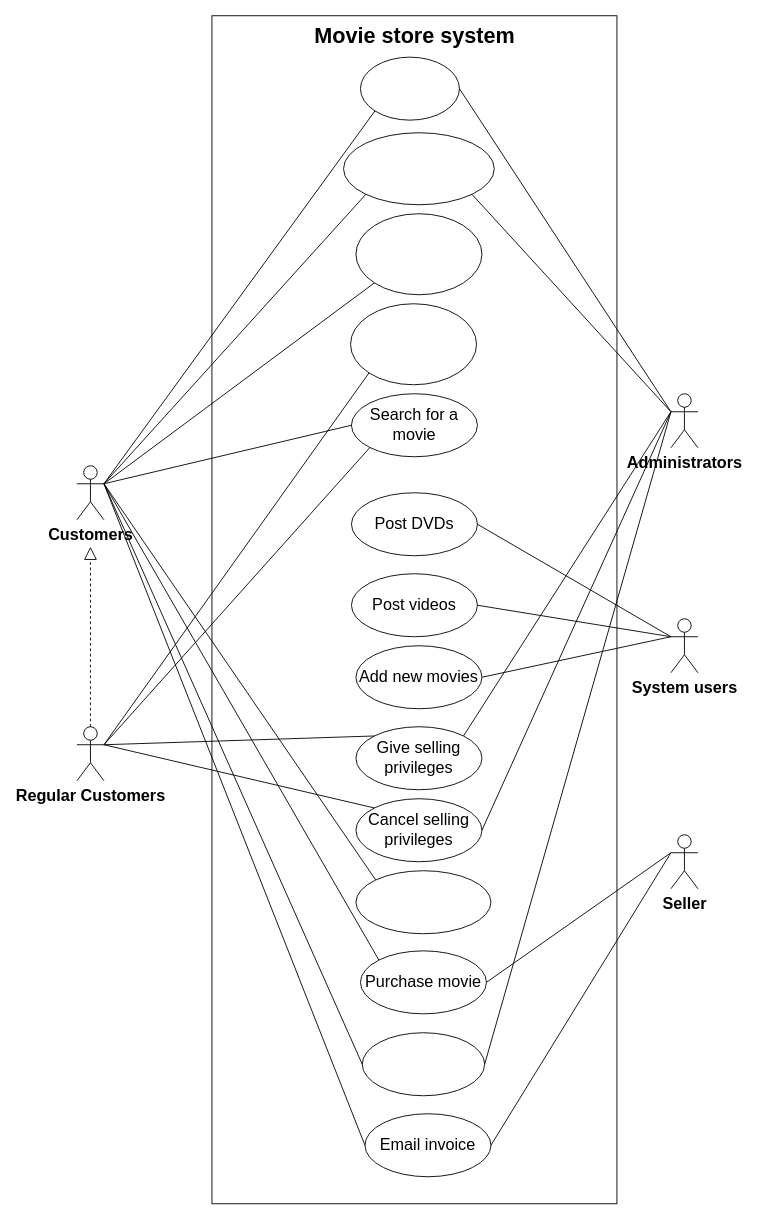
Some shapes in this 757 by 1220 pixel diagram are drawn without their labels. Each missing label, with the centre of its shape:
"Access different database" goes at (413,344).
"Access permitted database" goes at (418,254).
"Finish searching" goes at (423,902).
"Permit access and search" goes at (418,168).
"register to the system" goes at (409,88).
"Remove from profile" goes at (423,1064).
